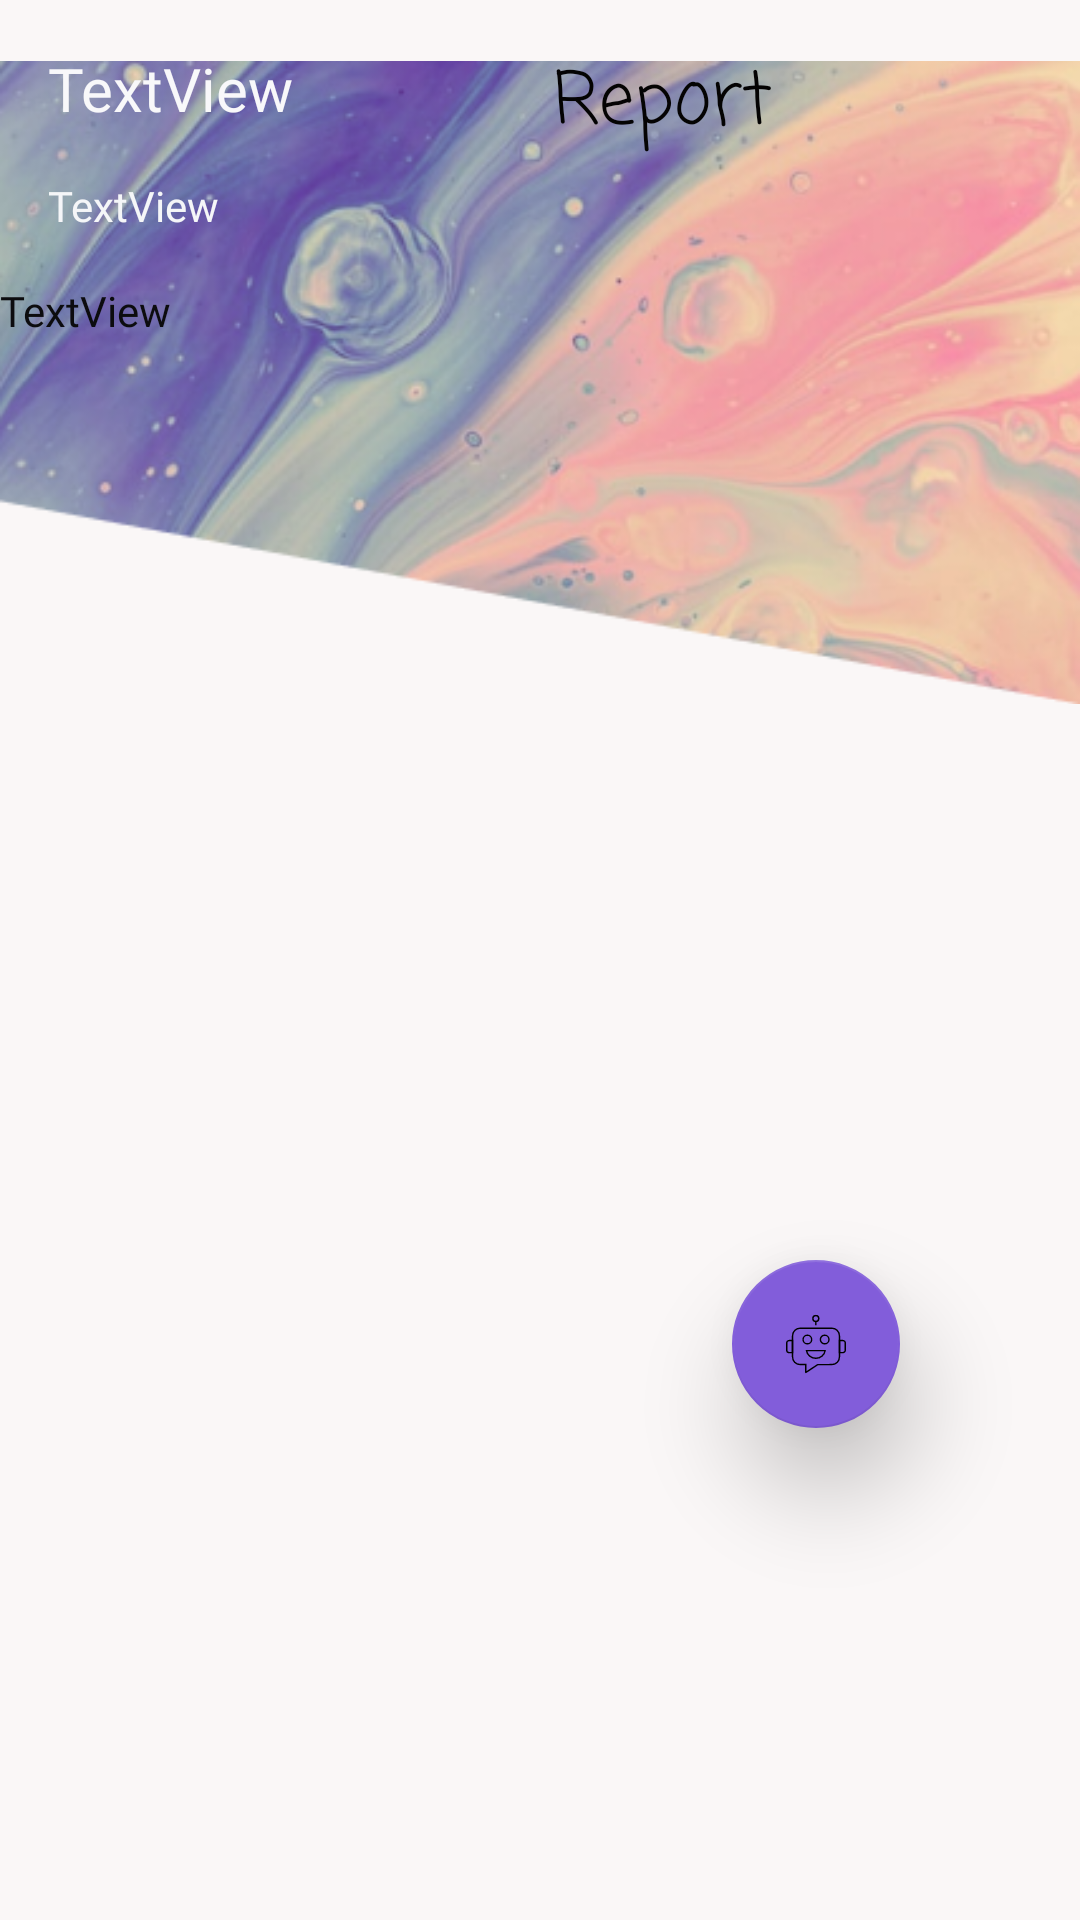

Icons on this 1080×1920 Android screen, each with the point to tap as (x=x, y=y):
chatbot: (x=816, y=1344)
